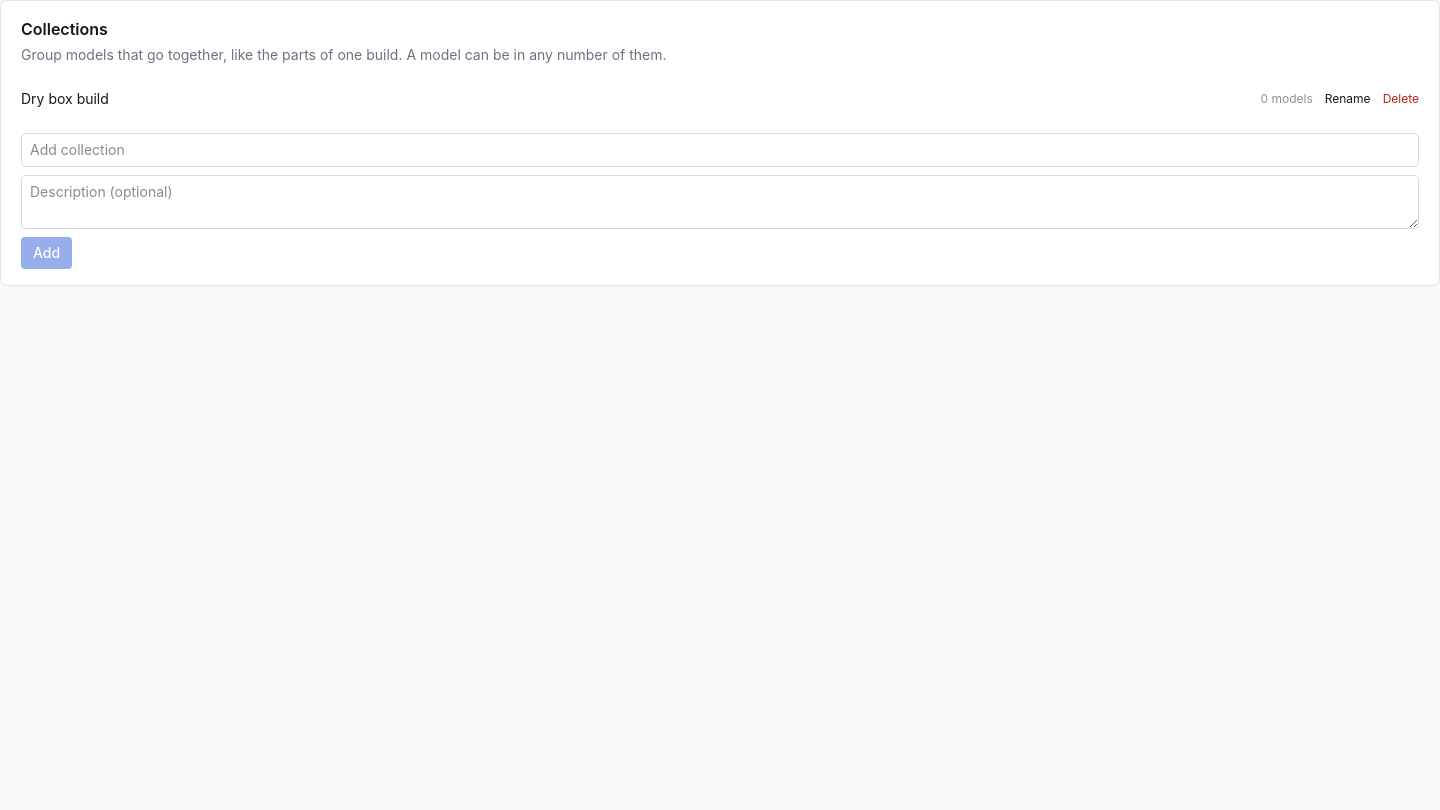
it: CollectionsSection › does not claim a version-only collection holds nothing
Click the button with aria-label "Delete Dry box build" at (1401, 99), box 1383,91 -> 1419,107
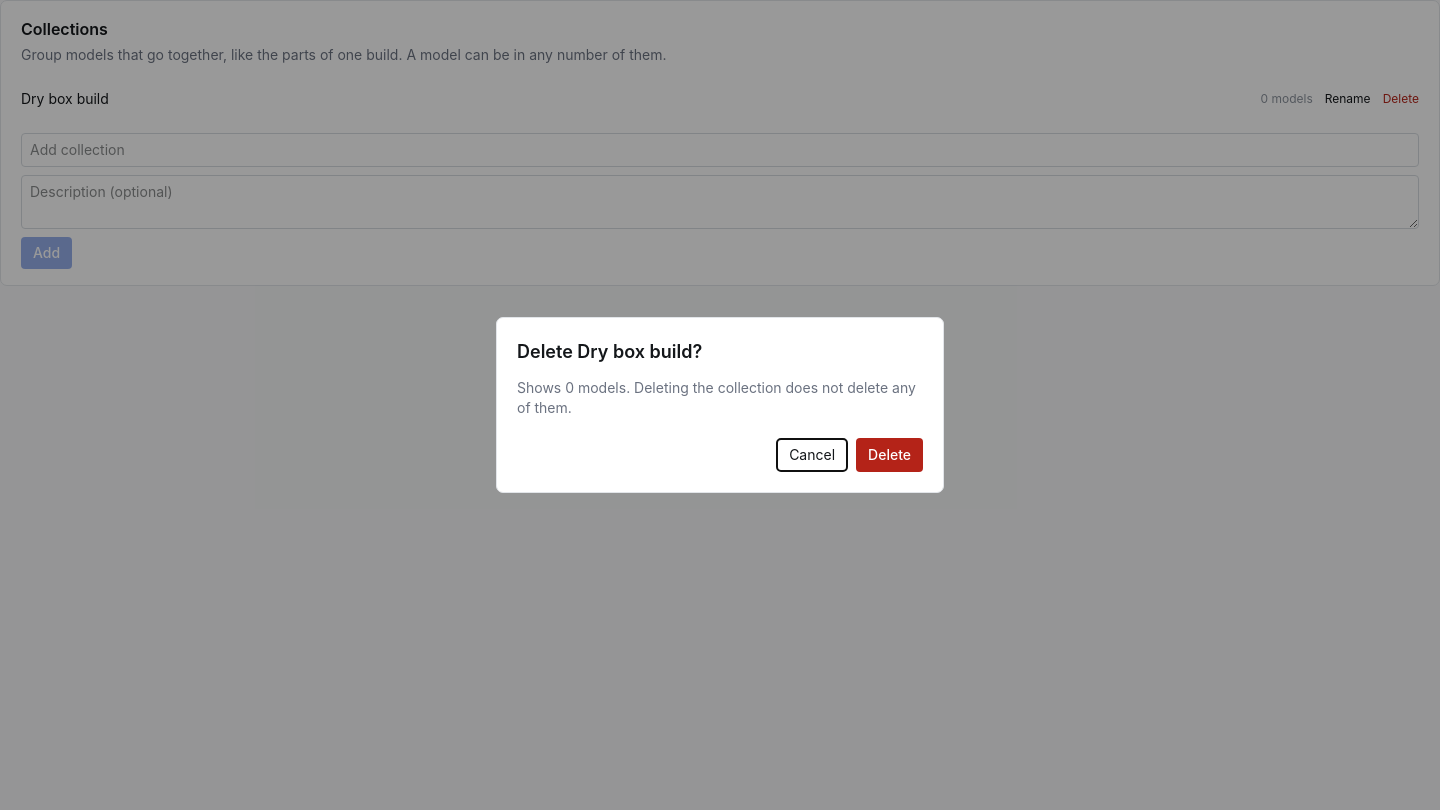
Expected: the dialog shows "Shows 0 models", 517,379 -> 916,416
